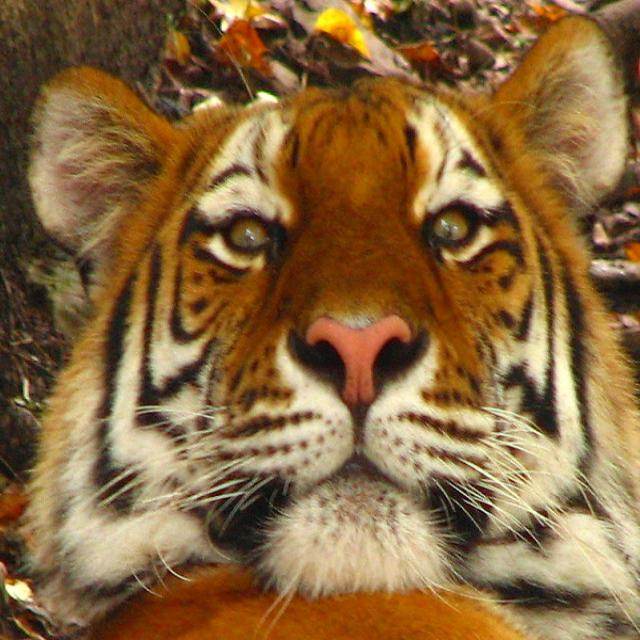Tiger: (21, 66, 611, 639)
